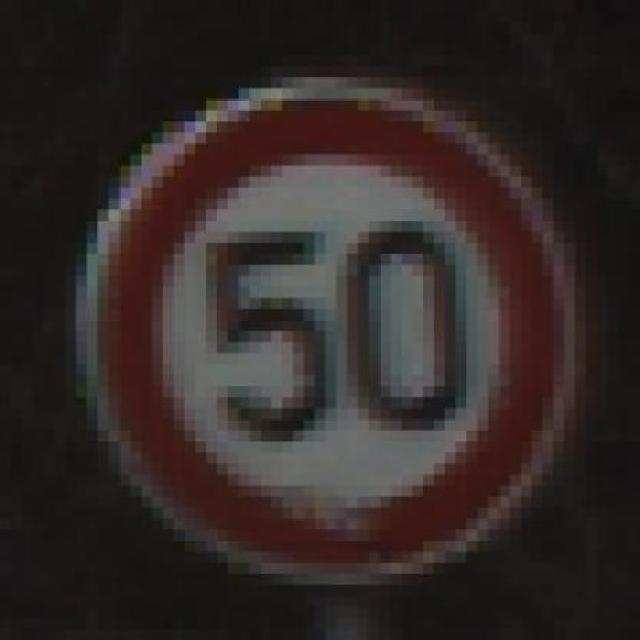50 mph speed limit: (43, 66, 586, 585)
